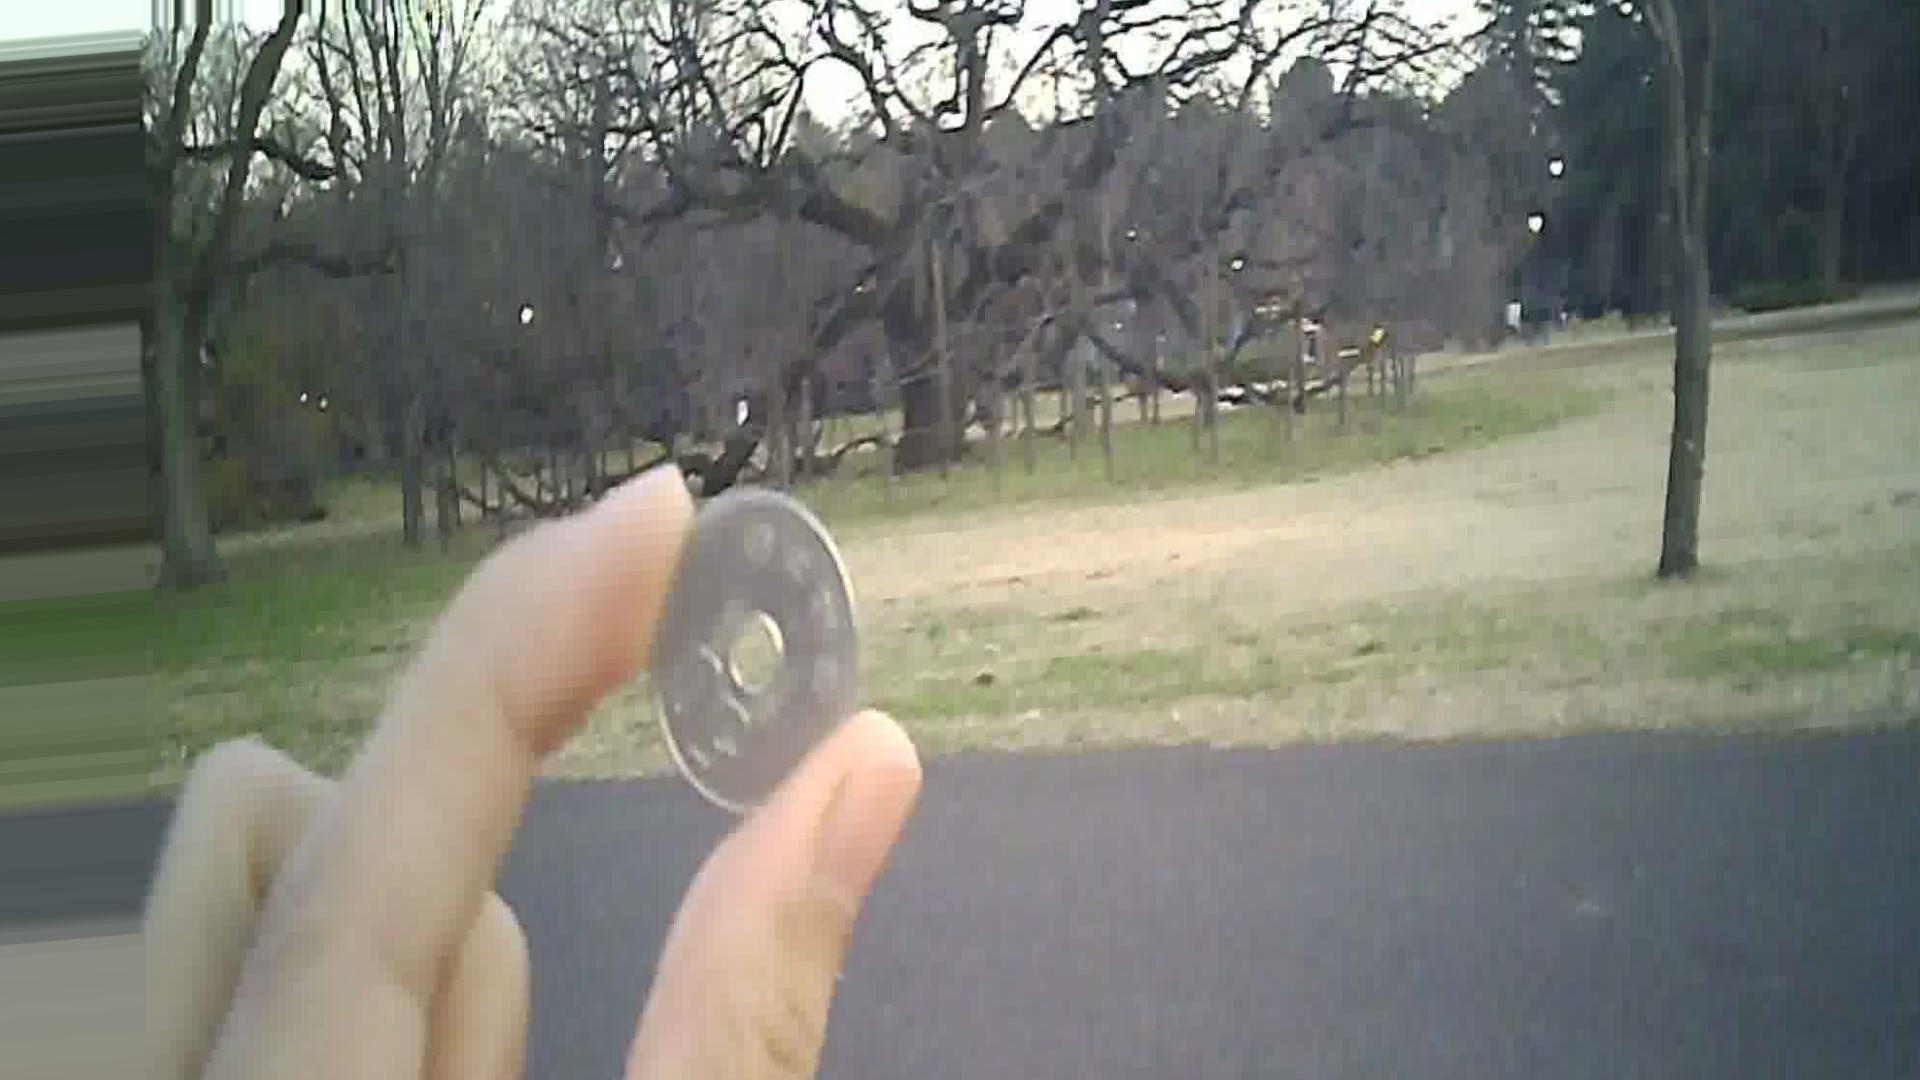50 Yen: (629, 480, 865, 828)
